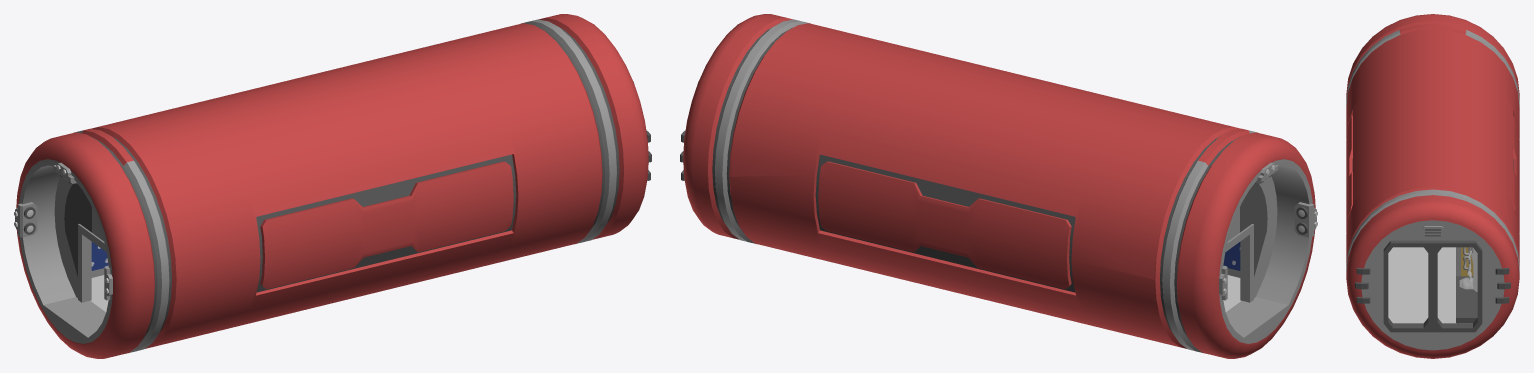
File: env_mechanicstation_sleepcapsule01_lod0.fbx
3 views of the same model, side by side, from view 1: azimuth 30°, elevation 25°; view 2: azimuth 150°, elevation 25°; view 3: azimuth 270°, elevation 25° (orthographic). The views are drawn at different scales.
Parts seen in each view (by area): view 1: env_mechanicstation_sleepcapsule01_lod0; view 2: env_mechanicstation_sleepcapsule01_lod0; view 3: env_mechanicstation_sleepcapsule01_lod0.
Boxes of the visible parts, bbox=[...] form: env_mechanicstation_sleepcapsule01_lod0: bbox=[14, 14, 651, 358]; env_mechanicstation_sleepcapsule01_lod0: bbox=[680, 14, 1317, 358]; env_mechanicstation_sleepcapsule01_lod0: bbox=[1346, 14, 1519, 358].
Size of the model in its own units: 82.75 by 30.03 by 30.03.
